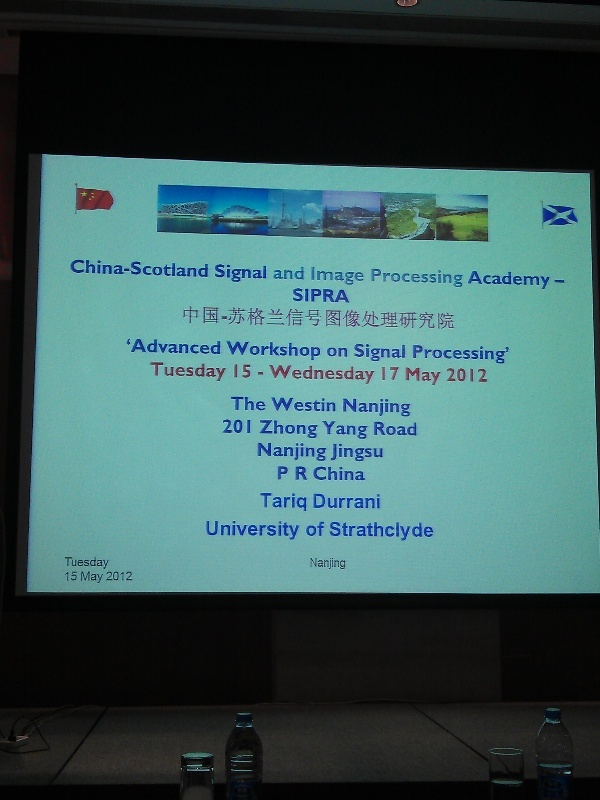text: (193, 305, 208, 331), (209, 305, 224, 331), (225, 305, 240, 331), (241, 305, 256, 331), (257, 305, 272, 331), (273, 305, 288, 331), (289, 305, 304, 331), (305, 305, 320, 331), (321, 305, 336, 331), (337, 305, 352, 331), (353, 305, 368, 331), (369, 305, 384, 331), (385, 305, 400, 331), (401, 305, 416, 331), (417, 305, 432, 331), (433, 305, 448, 331), (273, 364, 288, 387), (289, 364, 304, 387), (305, 364, 320, 387), (321, 364, 336, 387), (337, 364, 352, 387), (353, 364, 368, 387), (225, 263, 240, 285), (241, 263, 256, 285), (321, 266, 336, 288), (337, 266, 352, 288), (241, 340, 256, 362), (257, 340, 272, 362), (273, 340, 288, 362), (289, 340, 304, 362), (305, 340, 320, 362), (81, 258, 96, 279), (97, 258, 112, 279), (113, 258, 128, 279), (129, 258, 144, 279), (145, 258, 160, 279), (161, 258, 176, 279), (177, 258, 192, 279), (193, 258, 208, 279), (129, 337, 144, 358), (145, 337, 160, 358), (161, 337, 176, 358), (177, 337, 192, 358), (193, 337, 208, 358), (273, 491, 288, 512), (289, 491, 304, 512), (385, 267, 400, 288), (401, 267, 416, 288), (417, 267, 432, 288), (433, 267, 448, 288), (449, 267, 464, 288), (481, 270, 496, 291), (497, 270, 512, 291), (513, 270, 528, 291), (529, 270, 544, 291), (337, 419, 352, 440), (353, 419, 368, 440), (180, 305, 192, 331), (257, 443, 272, 463), (273, 443, 288, 463), (289, 443, 304, 463), (305, 443, 320, 463), (209, 520, 224, 540), (225, 520, 240, 540), (241, 520, 256, 540), (257, 520, 272, 540), (273, 520, 288, 540), (369, 343, 384, 363), (385, 343, 400, 363), (417, 345, 432, 365), (433, 345, 448, 365), (449, 345, 464, 365), (465, 345, 480, 365), (481, 345, 496, 365), (417, 367, 432, 387), (273, 419, 288, 439), (289, 419, 304, 439), (337, 443, 352, 463), (353, 443, 368, 463), (369, 443, 384, 463), (337, 522, 352, 542), (353, 522, 368, 542), (369, 522, 384, 542), (385, 522, 400, 542), (401, 522, 416, 542), (417, 522, 432, 542), (322, 419, 336, 440), (161, 362, 176, 381), (177, 362, 192, 381), (193, 362, 208, 381), (209, 362, 224, 381), (209, 337, 222, 358), (371, 267, 384, 288), (241, 395, 256, 413), (305, 287, 320, 305), (321, 287, 336, 305), (337, 287, 352, 305), (225, 417, 240, 435), (273, 265, 288, 283), (289, 265, 304, 283), (353, 399, 368, 417), (369, 399, 384, 417), (385, 399, 400, 417), (305, 520, 320, 538), (257, 263, 269, 285), (353, 266, 365, 288), (228, 340, 240, 362), (355, 343, 368, 363), (497, 345, 510, 365), (259, 419, 272, 439), (305, 419, 318, 439), (385, 365, 400, 382), (273, 396, 288, 413), (289, 396, 304, 413), (305, 396, 320, 413), (321, 396, 336, 413), (321, 493, 336, 510), (337, 493, 352, 510), (353, 493, 368, 510), (260, 491, 272, 512), (468, 270, 480, 291), (289, 520, 301, 540), (449, 367, 464, 383), (465, 367, 480, 383), (385, 422, 400, 438), (401, 422, 416, 438), (449, 305, 458, 331), (321, 556, 336, 571), (321, 466, 336, 481), (337, 466, 352, 481), (70, 258, 80, 279), (369, 493, 381, 510), (406, 367, 416, 387), (293, 287, 304, 305), (241, 417, 252, 435), (215, 263, 224, 285), (311, 266, 320, 288), (65, 556, 80, 569), (81, 556, 96, 569), (353, 466, 366, 481), (81, 571, 96, 584), (150, 362, 160, 381), (230, 395, 240, 413), (257, 395, 267, 413), (65, 570, 80, 582), (342, 399, 352, 417), (401, 399, 411, 417), (373, 422, 384, 438), (97, 556, 110, 569), (309, 556, 320, 571), (337, 556, 348, 571), (277, 466, 288, 481), (113, 571, 128, 582), (369, 364, 376, 387), (433, 367, 441, 387), (241, 364, 251, 379), (294, 467, 304, 482), (401, 343, 408, 363), (329, 522, 336, 542), (337, 346, 348, 358), (545, 270, 551, 291), (321, 443, 327, 463), (330, 443, 336, 463), (313, 493, 320, 510), (481, 367, 488, 383), (327, 346, 336, 358), (233, 364, 240, 379), (313, 466, 320, 481), (97, 571, 104, 584), (321, 520, 326, 538), (412, 345, 416, 365), (269, 364, 272, 387), (380, 365, 384, 382), (106, 571, 112, 582), (125, 337, 128, 358), (305, 491, 308, 512), (305, 467, 309, 482), (258, 372, 272, 376), (129, 571, 134, 582), (209, 258, 211, 279), (206, 520, 208, 540), (225, 362, 227, 381), (305, 265, 307, 283), (554, 279, 560, 285), (561, 279, 567, 285), (270, 396, 272, 413), (446, 367, 448, 383), (417, 422, 419, 438), (321, 340, 322, 362), (433, 522, 434, 542), (223, 417, 224, 435), (337, 396, 338, 413)
